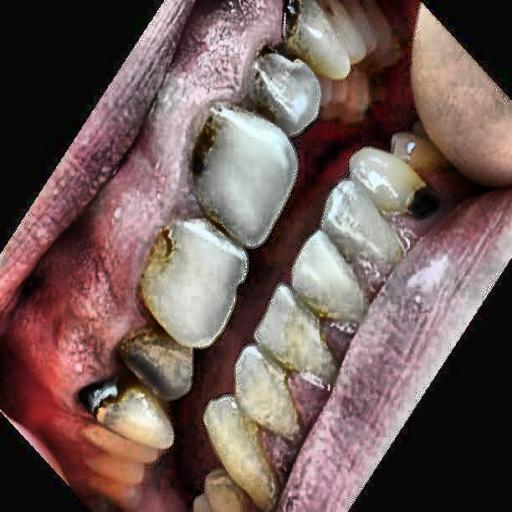Calculus: (121, 74, 251, 428), (344, 123, 460, 297), (49, 295, 140, 454)
